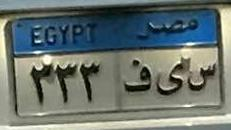3: (78, 60, 104, 110), (29, 62, 52, 107), (54, 62, 77, 106)
faa: (120, 55, 153, 99)
seen: (188, 62, 216, 95)
yaa: (154, 59, 186, 99)
